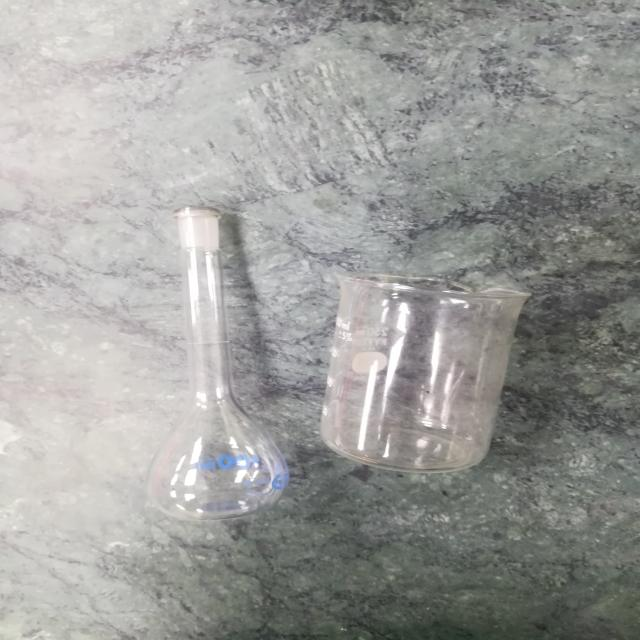Beaker: (310, 250, 537, 479)
Volumetric_Flask: (129, 186, 301, 529)
